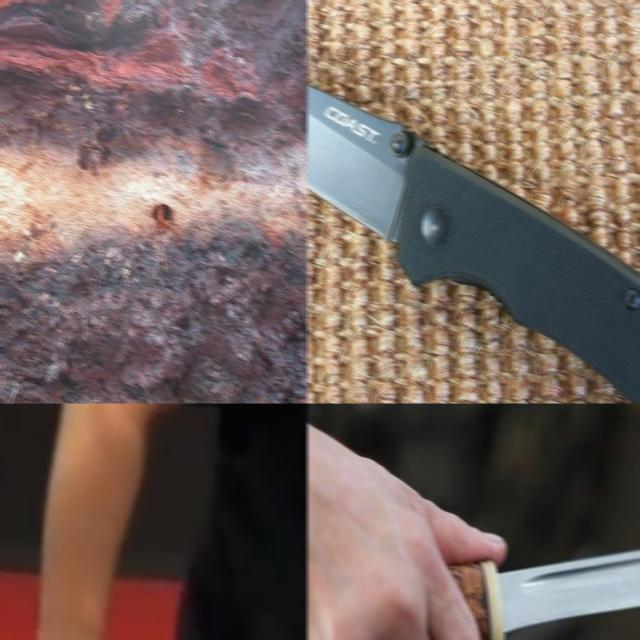Knife: (448, 549, 640, 640)
